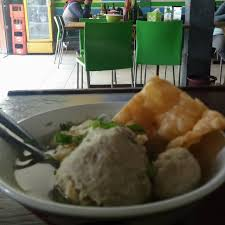bakso: (39, 100, 214, 217)
